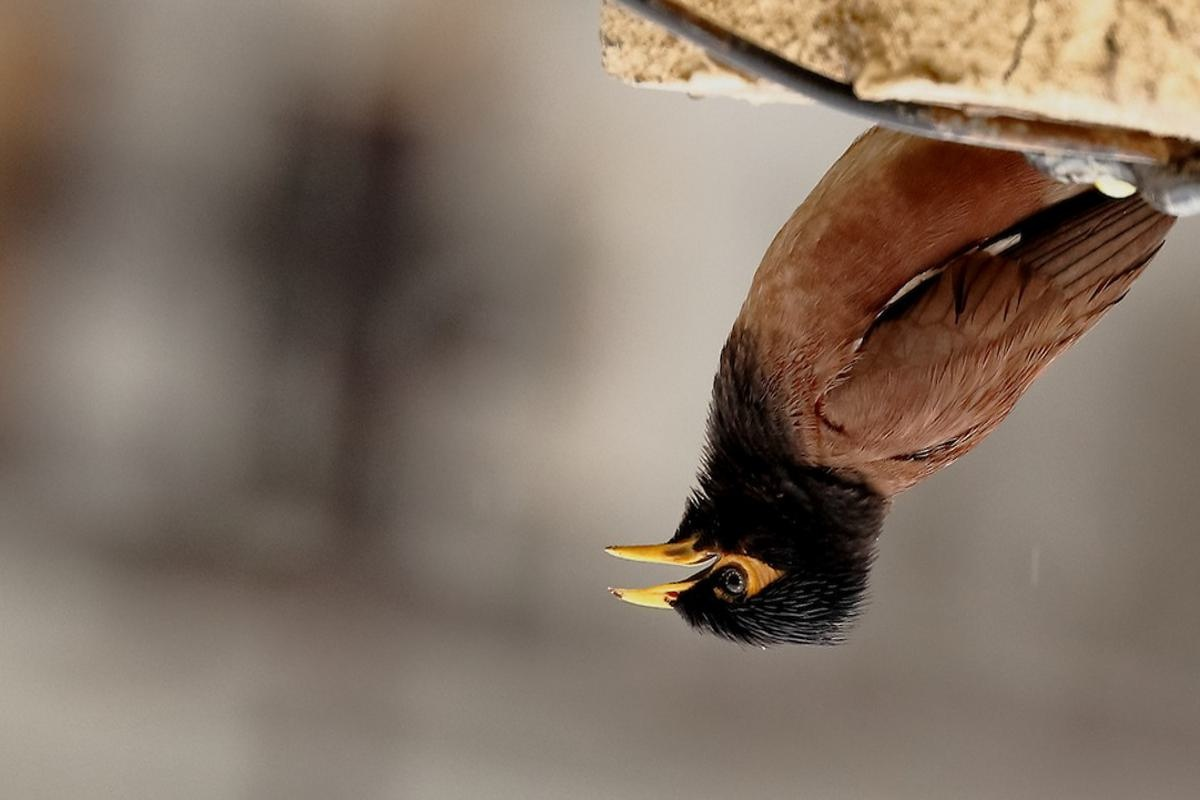myna: (611, 92, 1115, 680)
